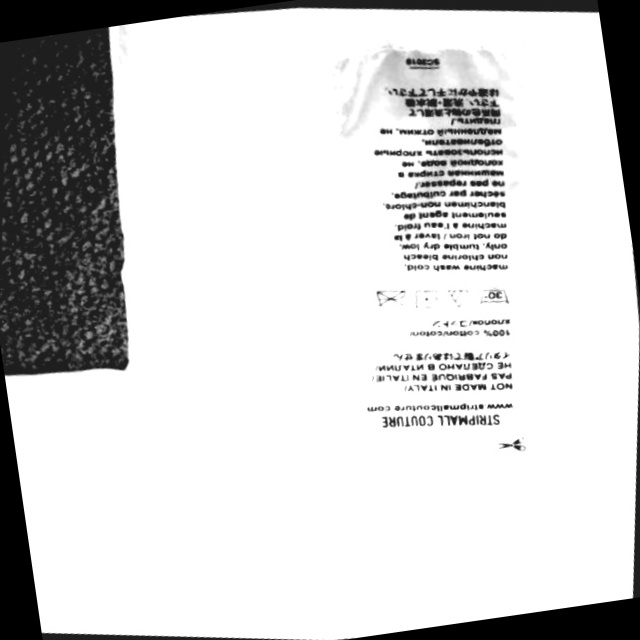30C: (473, 278, 517, 313)
DN_iron: (366, 280, 412, 320)
non_chlorine_bleach: (442, 281, 476, 313)
tumble_dry_low: (408, 281, 449, 316)
